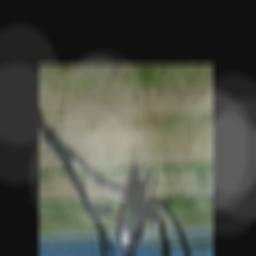Swallow: (115, 157, 159, 256)
